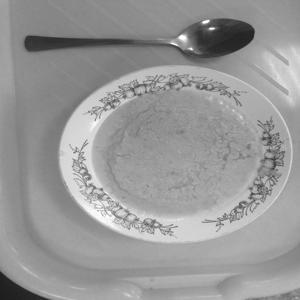porridge: (77, 61, 278, 237)
